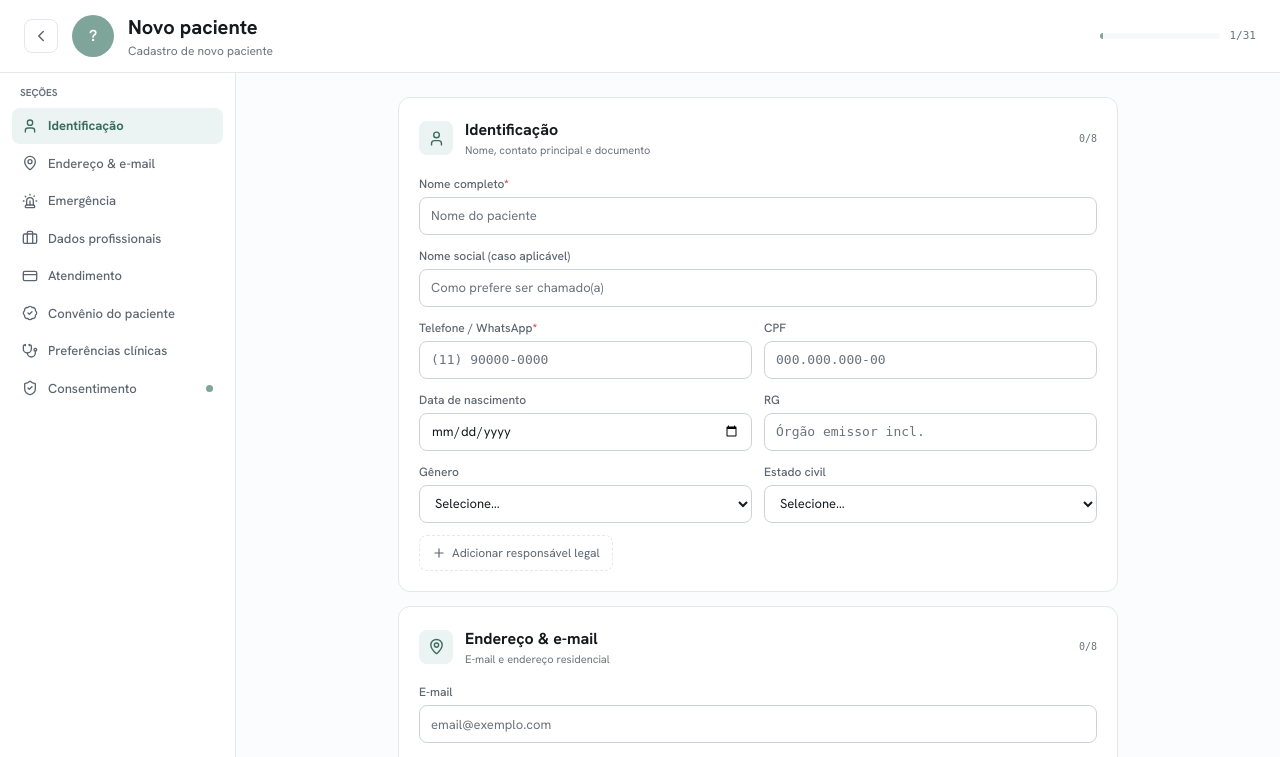
Test: PatientForm — novo › quando a ficha encontrada está arquivada, o aviso manda reativar
Type "11111111111" into the field with placeholder "000.000.000-00" at (930, 360), box [764,340,1097,378]
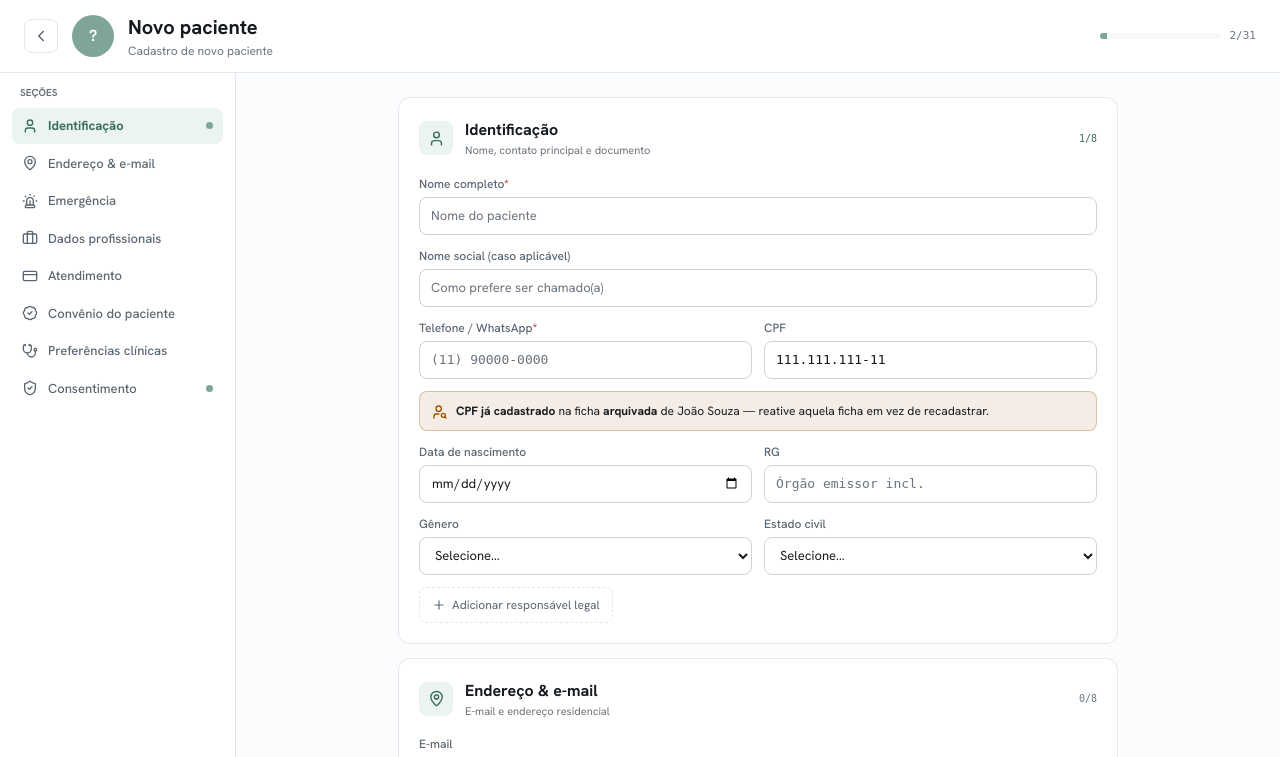
Expected: the text "arquivada" is shown, [603,402,657,418]
Expected: the text "reative" is shown, [657,402,989,418]
